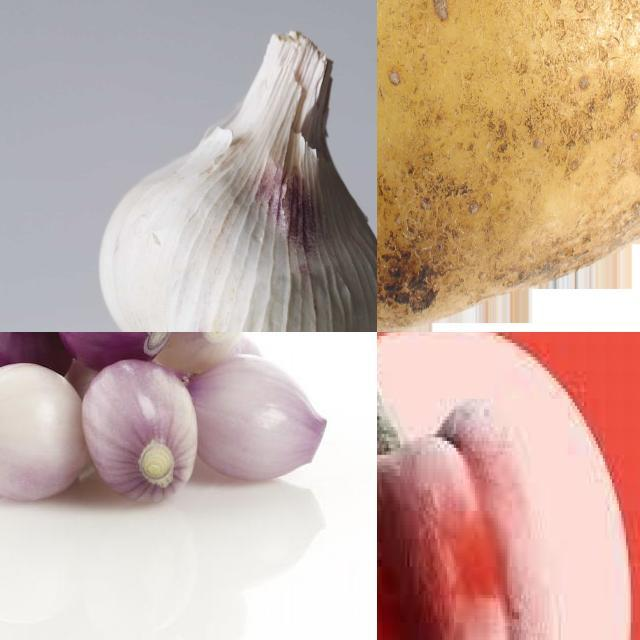bell_pepper: (378, 333, 581, 640)
garlic: (99, 32, 378, 333)
onion: (194, 355, 326, 489), (79, 369, 197, 508), (1, 349, 89, 510), (54, 333, 176, 372), (170, 333, 255, 379), (1, 333, 68, 384)
potato: (378, 1, 640, 332)
